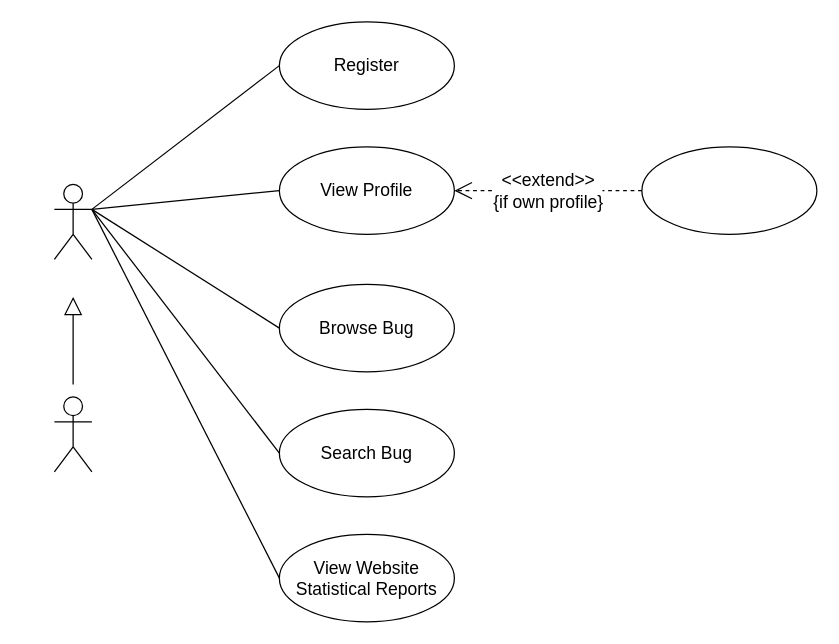
Some shapes in this 839 by 644 pixel diagram are drawn without their labels. Each missing label, with the centre of its shape:
Bug Reporter: point (72, 434)
Edit Profile: point (729, 190)
Public User: point (72, 221)
